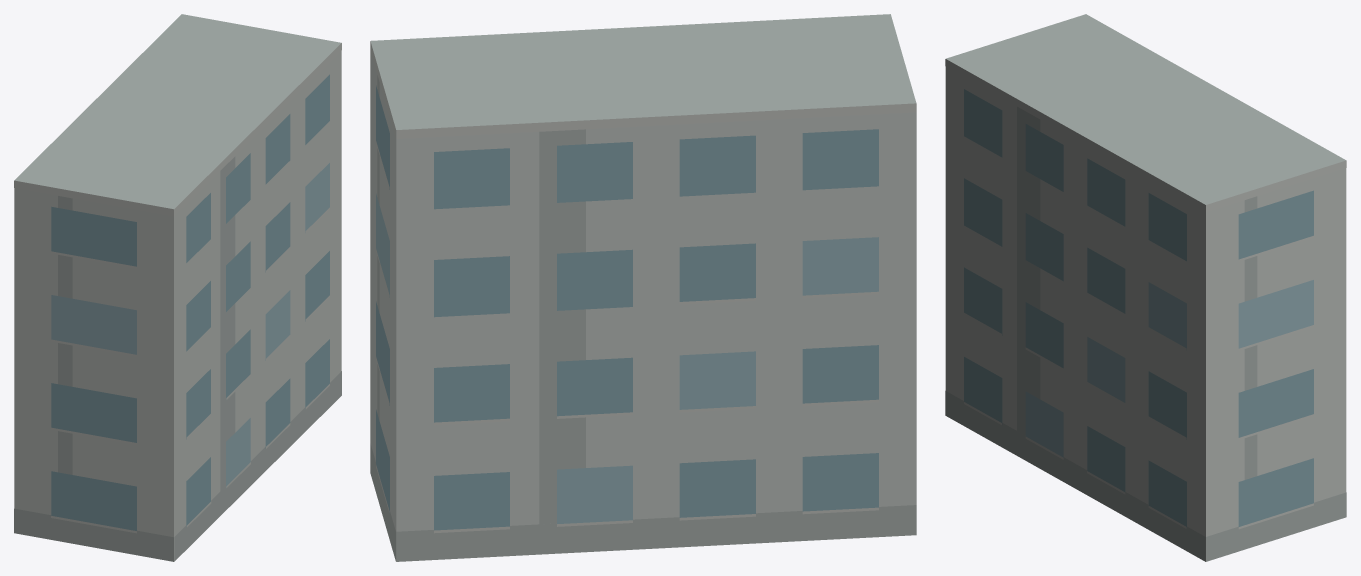
File: residential-b80bbab6-f736-4c20-8e39-61ddb4f1cf1e.glb
3 renders of one model, left to right at view 1: azimuth 30°, elevation 25°; view 2: azimuth 150°, elevation 25°; view 3: azimuth 270°, elevation 25°, orthographic. The views are drawn at different scales.
Parts seen in each view (by area): view 1: residential-b80bbab6-f736-4c20-8e39-61ddb4f1cf1e.tmp; view 2: residential-b80bbab6-f736-4c20-8e39-61ddb4f1cf1e.tmp; view 3: residential-b80bbab6-f736-4c20-8e39-61ddb4f1cf1e.tmp.
Boxes of the visible parts, box(x1,y1,x2,y2) form: residential-b80bbab6-f736-4c20-8e39-61ddb4f1cf1e.tmp: box(14, 14, 341, 561); residential-b80bbab6-f736-4c20-8e39-61ddb4f1cf1e.tmp: box(370, 14, 916, 561); residential-b80bbab6-f736-4c20-8e39-61ddb4f1cf1e.tmp: box(945, 14, 1346, 561).
Bounding box in the file's own units: 13.33 × 11.6 × 11.82.
